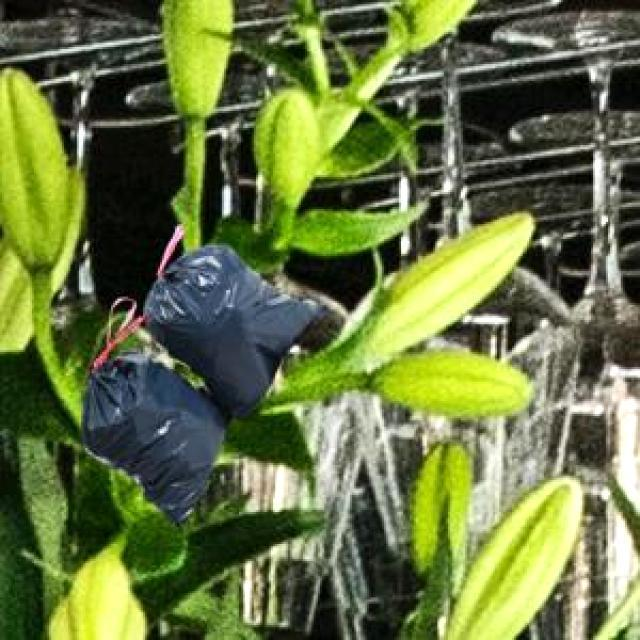Garbage_Bag: (78, 223, 324, 526)
